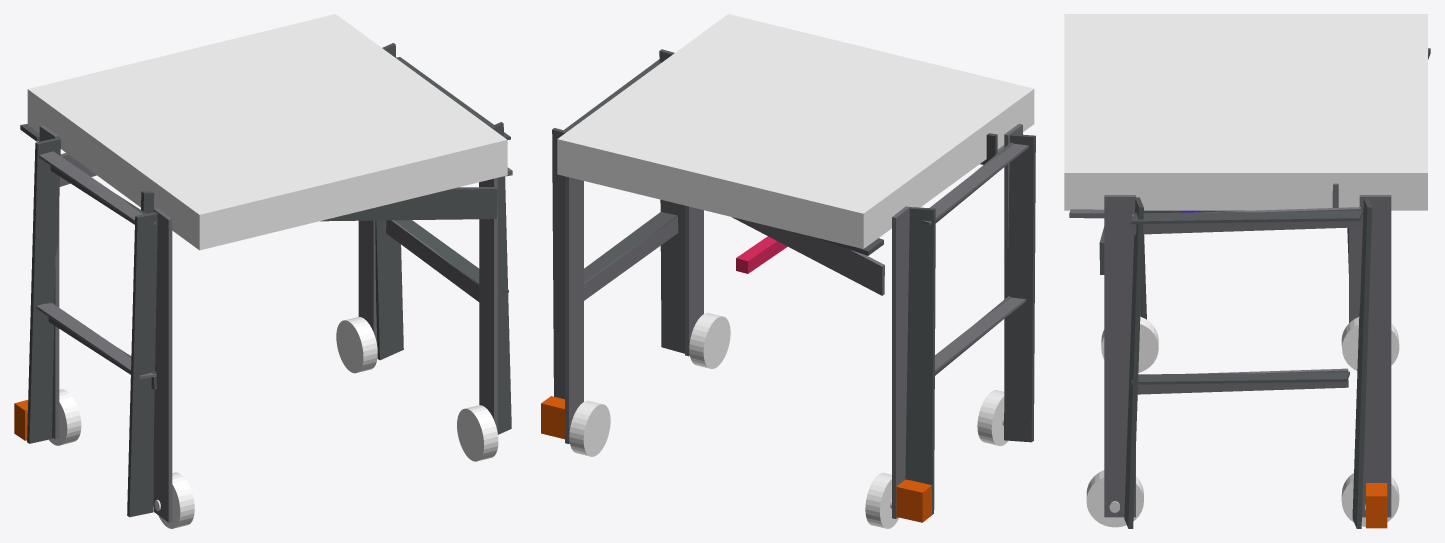
File: new_rover.glb
3 views of the same model, side by side, from view 1: azimuth 30°, elevation 25°; view 2: azimuth 150°, elevation 25°; view 3: azimuth 270°, elevation 25° (orthographic). The views are drawn at different scales.
Visible parts, largest first — view 1: Cube, Cube.012, Cube.009, Cube.010, ltempl2.005, Cube.001, Cube.006, Cube.003, Cube.004, Cylinder.001, Cylinder.002, lTempl.004 (+6 smaller); view 2: Cube, Cube.012, Cube.009, Cube.004, Cube.007, Cube.003, lTempl.006, Cube.006, Cube.001, Cylinder.002, Cylinder.001, lTempl.004 (+9 smaller); view 3: Cube, Cube.001, Cube.004, Cube.006, Cube.003, ltempl2.003, lTempl.003, ltempl2.004, lTempl.004, Cylinder.001, Cube.007, Cube.005 (+3 smaller).
Boxes of the visible parts, left/top/right/bottom form: Cube: left=27, top=14, right=507, bottom=250; Cube.012: left=127, top=212, right=157, bottom=517; Cube.009: left=27, top=138, right=60, bottom=443; Cube.010: left=153, top=208, right=172, bottom=522; ltempl2.005: left=141, top=187, right=497, bottom=221; Cube.001: left=479, top=177, right=497, bottom=433; Cube.006: left=375, top=43, right=403, bottom=360; Cube.003: left=479, top=122, right=511, bottom=434; Cube.004: left=358, top=220, right=377, bottom=345; Cylinder.001: left=457, top=405, right=498, bottom=461; Cylinder.002: left=336, top=317, right=377, bottom=373; lTempl.004: left=386, top=220, right=479, bottom=301; Cube: left=557, top=14, right=1034, bottom=248; Cube.012: left=1004, top=134, right=1035, bottom=442; Cube.009: left=905, top=207, right=935, bottom=514; Cube.004: left=565, top=176, right=583, bottom=443; Cube.007: left=892, top=206, right=909, bottom=518; Cube.003: left=659, top=49, right=684, bottom=353; lTempl.006: left=732, top=217, right=884, bottom=295; Cube.006: left=552, top=128, right=567, bottom=399; Cube.001: left=685, top=205, right=703, bottom=356; Cylinder.002: left=569, top=400, right=610, bottom=456; Cylinder.001: left=689, top=313, right=730, bottom=368; lTempl.004: left=584, top=216, right=678, bottom=300; Cube: left=1064, top=14, right=1427, bottom=210; Cube.001: left=1104, top=195, right=1135, bottom=517; Cube.004: left=1359, top=195, right=1391, bottom=517; Cube.006: left=1352, top=198, right=1372, bottom=528; Cube.003: left=1124, top=197, right=1143, bottom=528; ltempl2.003: left=1131, top=210, right=1362, bottom=224; lTempl.003: left=1132, top=207, right=1361, bottom=234; ltempl2.004: left=1131, top=371, right=1349, bottom=384; lTempl.004: left=1137, top=368, right=1348, bottom=394; Cylinder.001: left=1086, top=470, right=1143, bottom=527; Cube.007: left=1349, top=227, right=1359, bottom=322; Cube.005: left=1366, top=483, right=1387, bottom=528.
Size of the model in its own units: 5.17 by 4.35 by 4.08.
